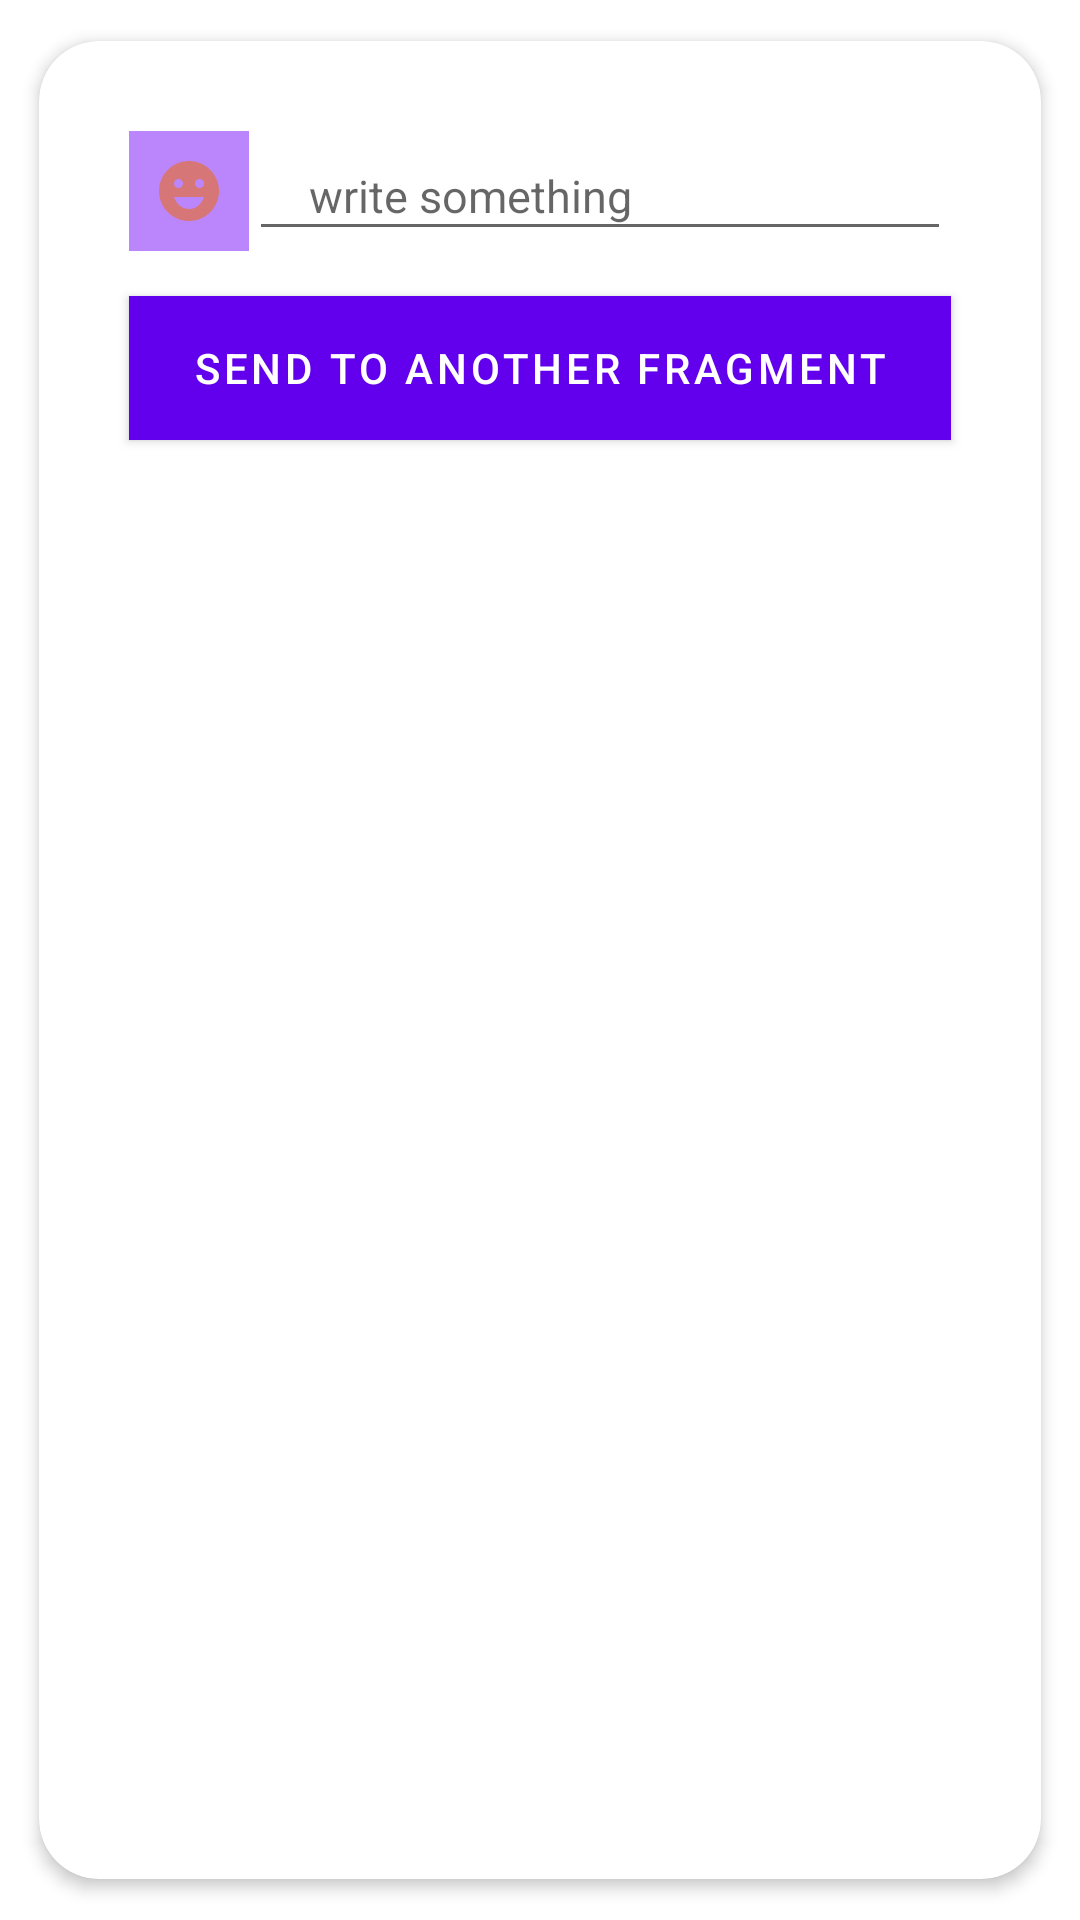

Where to tap for icons on this 1080w x 1920h app screen, as (x=x, y=y):
emoji emotions: (x=189, y=191)
